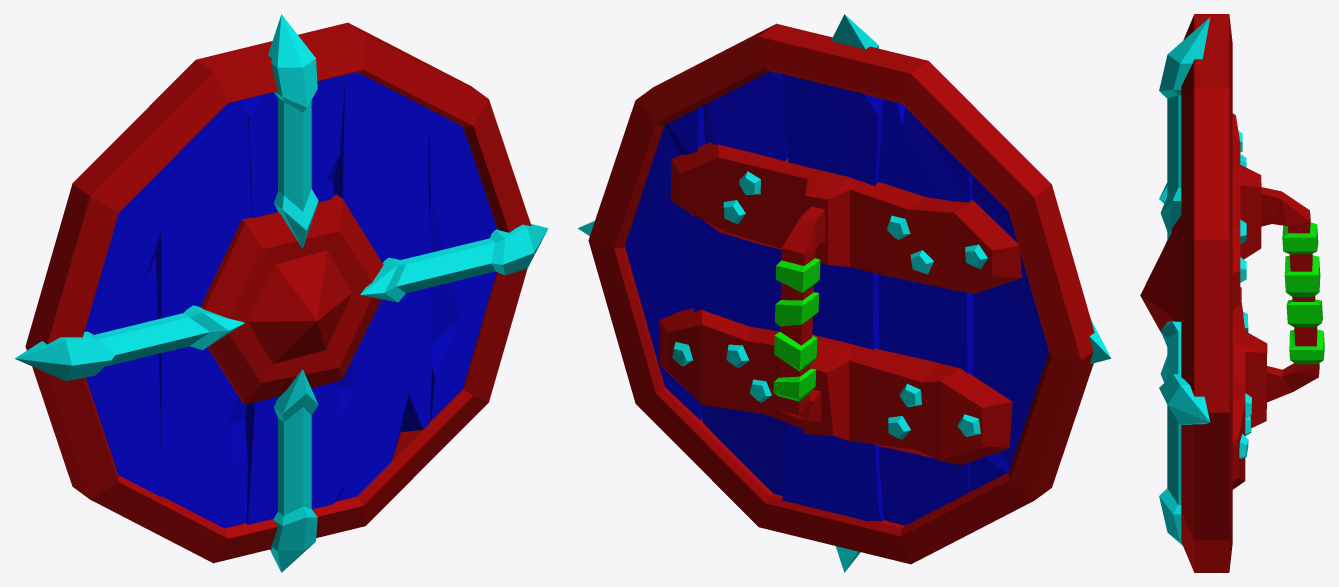
The model's file is Sheild_Common_WoodenTarge.fbx.
3 renders of one model, left to right at view 1: azimuth 30°, elevation 25°; view 2: azimuth 150°, elevation 25°; view 3: azimuth 270°, elevation 25°, orthographic.
Parts seen in each view (by area): view 1: SM_Wep_Shield_06; view 2: SM_Wep_Shield_06; view 3: SM_Wep_Shield_06.
Part boxes in pixels (<box>): SM_Wep_Shield_06: <box>14,14,548,572</box>; SM_Wep_Shield_06: <box>577,14,1111,572</box>; SM_Wep_Shield_06: <box>1140,14,1324,572</box>.
Bounding box in the file's own units: 67.97 × 67.97 × 20.56.
